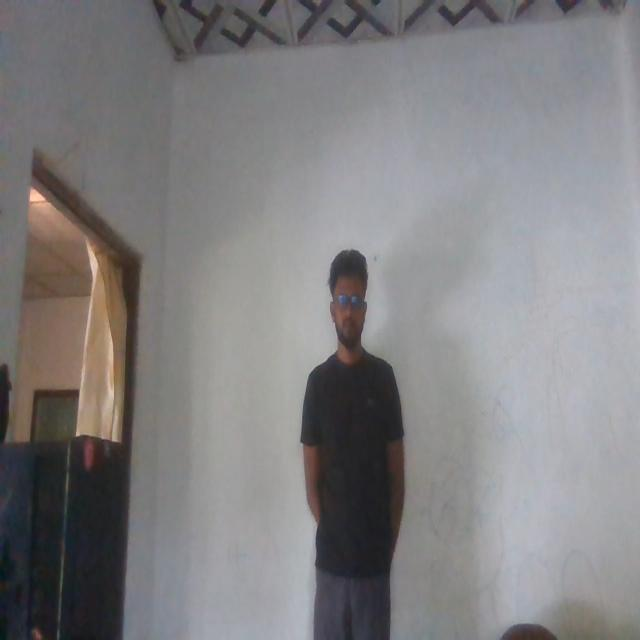Person: (291, 226, 412, 640)
